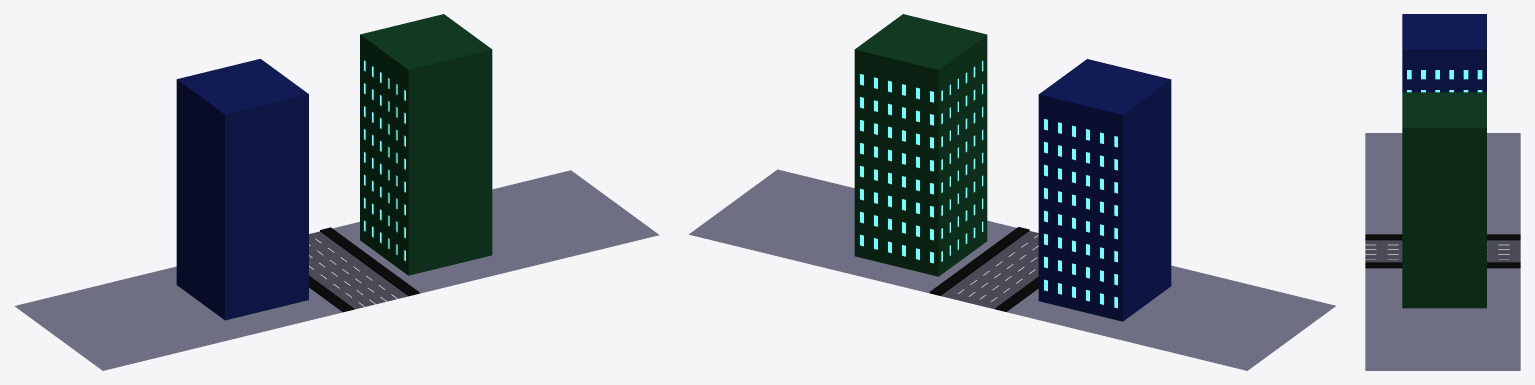
Rendered from Road2.fbx.
3 renders of one model, left to right at view 1: azimuth 30°, elevation 25°; view 2: azimuth 150°, elevation 25°; view 3: azimuth 270°, elevation 25°, orthographic. The views are drawn at different scales.
Parts seen in each view (by area): view 1: Building.002, Building.001, Ground, Road; view 2: Building.001, Building.002, Ground, Road; view 3: Ground, Building.002, Building.001, Road.
Part boxes in pixels (<box>): Building.002: <box>360,14,492,275</box>; Building.001: <box>176,59,308,320</box>; Ground: <box>14,170,659,370</box>; Road: <box>309,227,419,312</box>; Building.001: <box>1038,59,1171,321</box>; Building.002: <box>854,14,987,276</box>; Ground: <box>689,169,1335,370</box>; Road: <box>929,227,1038,311</box>; Ground: <box>1365,133,1520,370</box>; Building.002: <box>1402,92,1486,308</box>; Building.001: <box>1402,14,1486,92</box>; Road: <box>1365,234,1520,268</box>.
Size of the model in its own units: 19151 by 6769 by 5285.
